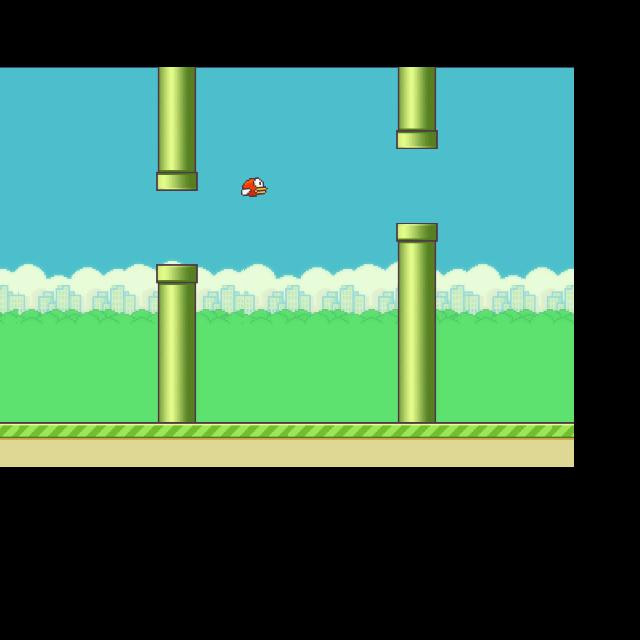bird: (240, 177, 268, 197)
pipedown: (396, 222, 438, 424), (156, 264, 197, 423)
pipeup: (156, 67, 197, 193), (396, 65, 437, 149)
